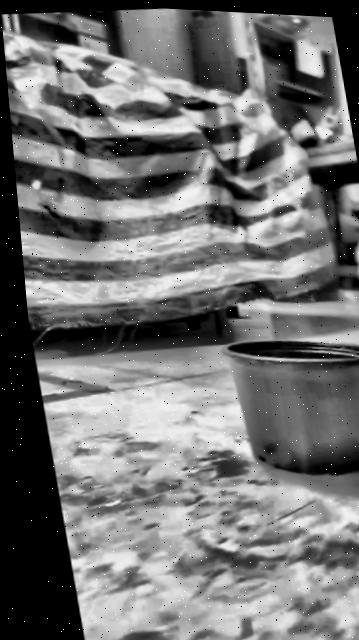pot: (218, 327, 359, 486)
